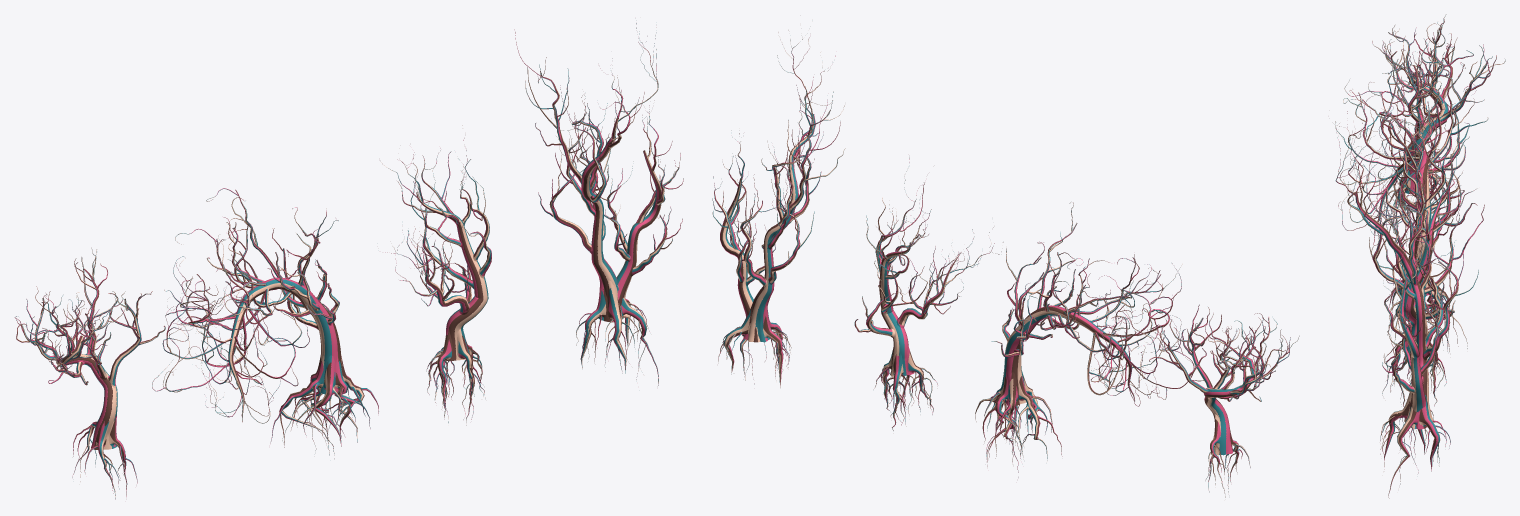
Rendered from dead_trees_demo.fbx.
The picture shows the model from 3 angles, left to right: view 1: azimuth 30°, elevation 25°; view 2: azimuth 150°, elevation 25°; view 3: azimuth 270°, elevation 25°; orthographic projection. The views are drawn at different scales.
Parts seen in each view (by area): view 1: DT_Demo_003_3_6, DT_Demo_001_1_2, DT_Demo_004_4_8, DT_Demo_002_2_4; view 2: DT_Demo_003_3_6, DT_Demo_001_1_2, DT_Demo_004_4_8, DT_Demo_002_2_4; view 3: DT_Demo_001_1_2, DT_Demo_003_3_6, DT_Demo_002_2_4, DT_Demo_004_4_8.
Boxes of the visible parts, x1,y1,x2,y2 form: DT_Demo_003_3_6: [152, 188, 378, 459]; DT_Demo_001_1_2: [514, 23, 683, 385]; DT_Demo_004_4_8: [381, 125, 491, 425]; DT_Demo_002_2_4: [14, 247, 165, 499]; DT_Demo_003_3_6: [975, 202, 1203, 477]; DT_Demo_001_1_2: [712, 26, 845, 387]; DT_Demo_004_4_8: [854, 157, 1003, 430]; DT_Demo_002_2_4: [1149, 304, 1299, 497]; DT_Demo_001_1_2: [1335, 95, 1478, 498]; DT_Demo_003_3_6: [1335, 46, 1488, 351]; DT_Demo_002_2_4: [1372, 14, 1505, 246]; DT_Demo_004_4_8: [1362, 134, 1484, 406].
Size of the model in its own units: 495 by 300 by 125.
